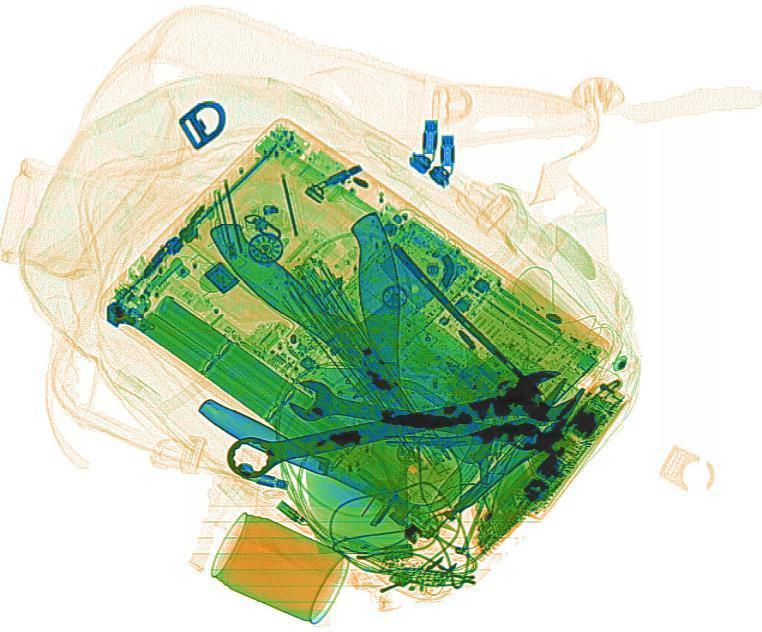Knife: (183, 190, 563, 470), (299, 211, 414, 553)
Wrench: (214, 364, 584, 487), (288, 375, 549, 463)
